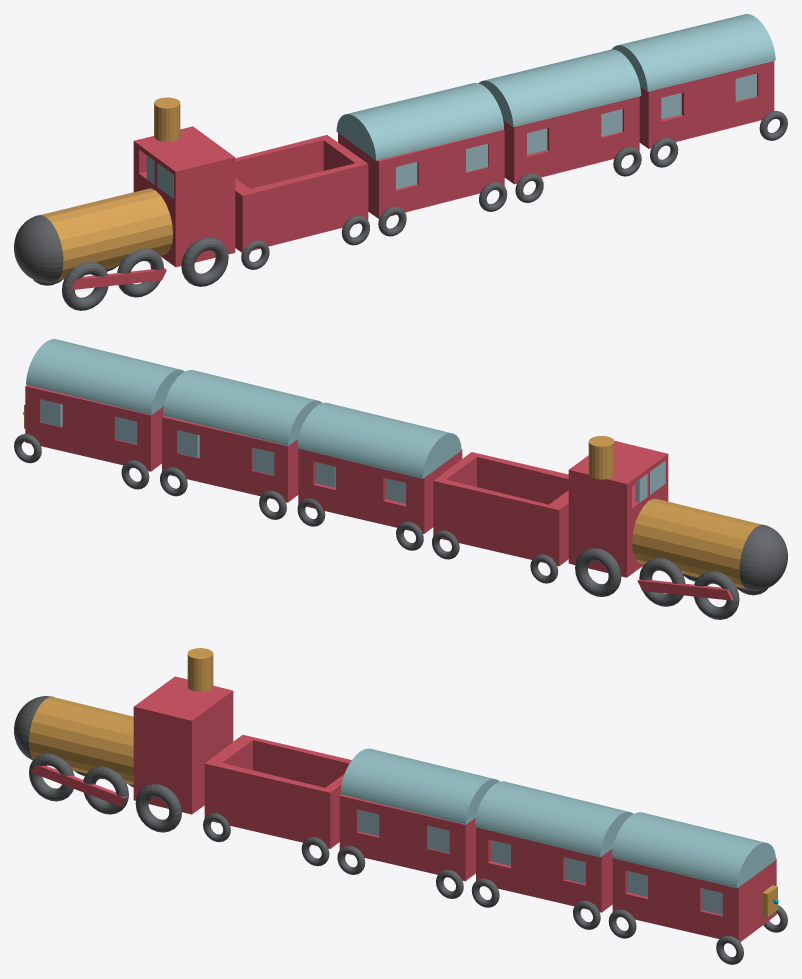
The model's file is Exquisite Blad-Uusam.glb.
3 renders of one model, top to bottom at view 1: azimuth 30°, elevation 25°; view 2: azimuth 150°, elevation 25°; view 3: azimuth 330°, elevation 25°, orthographic. The views are drawn at different scales.
Parts seen in each view (by area): view 1: Mesh_Mesh_head_geo.001_lambert2SG.001; view 2: Mesh_Mesh_head_geo.001_lambert2SG.001; view 3: Mesh_Mesh_head_geo.001_lambert2SG.001.
Boxes of the visible parts, x1=… form: Mesh_Mesh_head_geo.001_lambert2SG.001: x1=14, y1=14, x2=787, y2=310; Mesh_Mesh_head_geo.001_lambert2SG.001: x1=14, y1=339, x2=787, y2=619; Mesh_Mesh_head_geo.001_lambert2SG.001: x1=14, y1=648, x2=787, y2=964.
Size of the model in its own units: 165 by 32 by 21.75.
